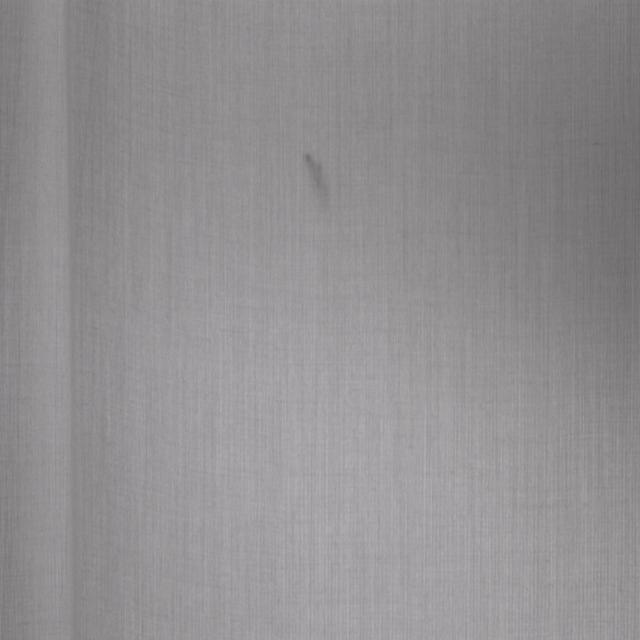dirty: (300, 152, 331, 196)
